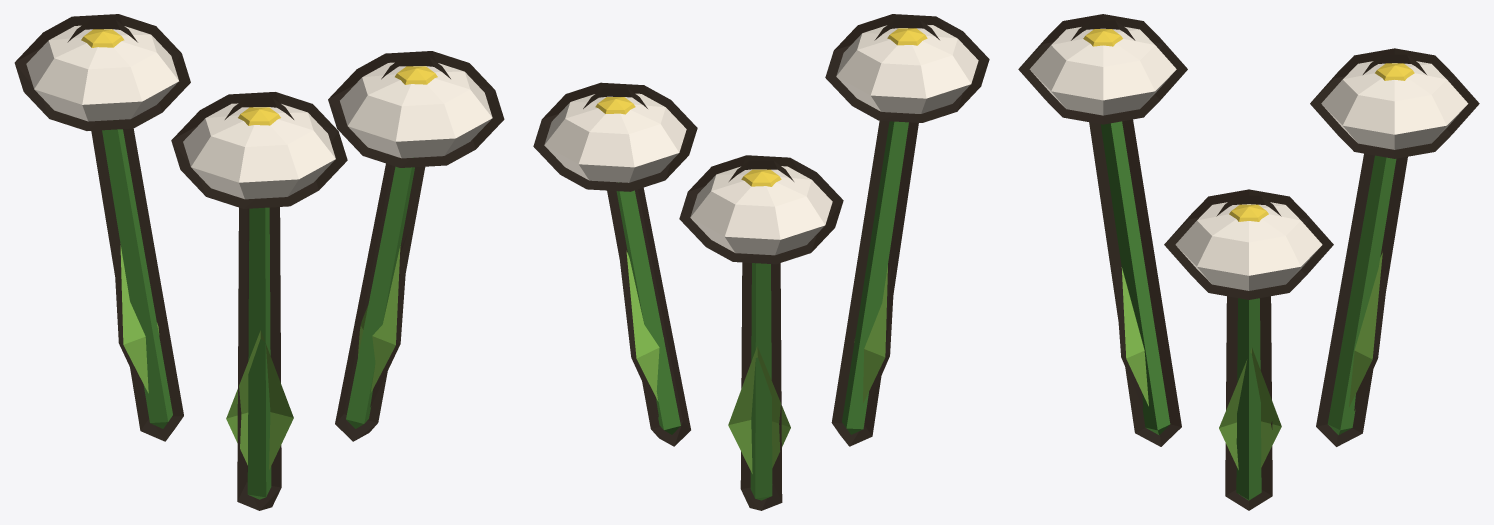
Rendered from flower_01.glb.
3 views of the same model, side by side, from view 1: azimuth 30°, elevation 25°; view 2: azimuth 150°, elevation 25°; view 3: azimuth 270°, elevation 25° (orthographic). The views are drawn at different scales.
Visible parts, largest first — view 1: OBJ_flower_01; view 2: OBJ_flower_01; view 3: OBJ_flower_01.
Boxes of the visible parts, box(x1,y1,x2,y2) form: OBJ_flower_01: box(14, 14, 504, 510); OBJ_flower_01: box(533, 14, 989, 510); OBJ_flower_01: box(1018, 14, 1479, 510).
Size of the model in its own units: 0.2008 by 0.2149 by 0.2194.
